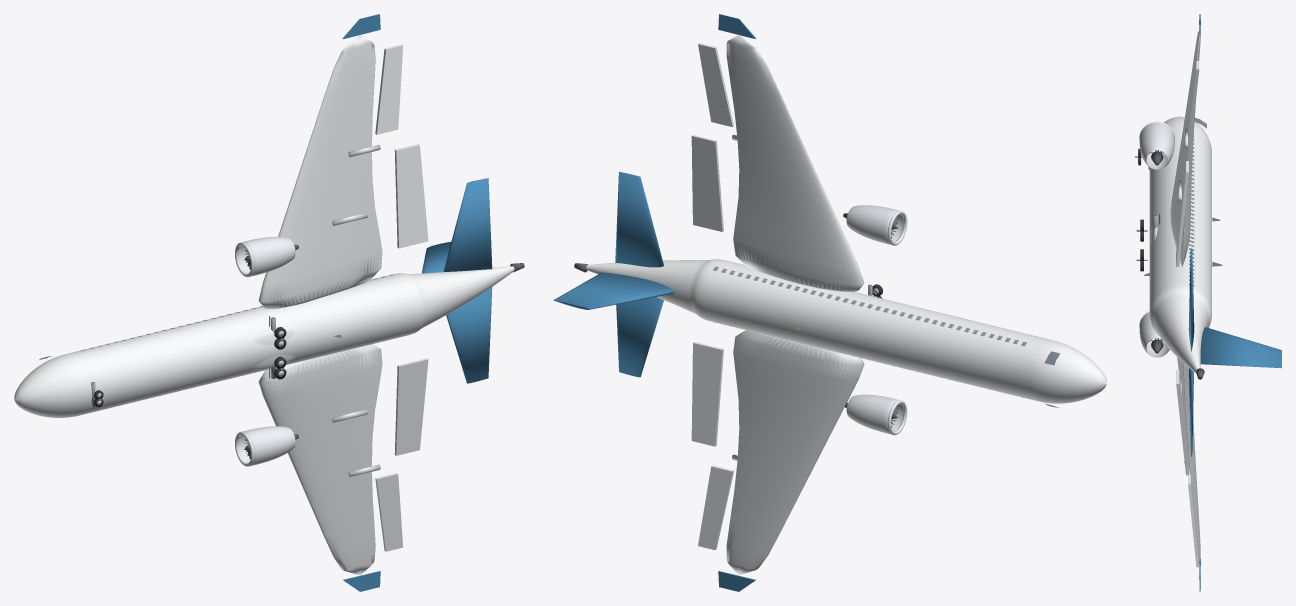
The picture shows the model from 3 angles, left to right: view 1: azimuth 30°, elevation 25°; view 2: azimuth 150°, elevation 25°; view 3: azimuth 270°, elevation 25°; orthographic projection.
Parts seen in each view (by area): view 1: Fuselage, Wing_R, Wing_L, HStab_R, HStab_L, Flap_R, Flap_L, Aileron_R, Aileron_L, Nacelle_-1_0, Nacelle_1_0, BellyFairing (+1 smaller); view 2: Fuselage, Wing_L, Wing_R, HStab_R, Flap_L, HStab_L, Fin, Flap_R, Aileron_L, Aileron_R, Nacelle_-1_0, Nacelle_1_0 (+1 smaller); view 3: Fuselage, Fin, Wing_R, Wing_L, Nacelle_1_0, Nacelle_-1_0, Flap_L, Flap_R, HStab_R, Aileron_L, Aileron_R, HStab_L (+1 smaller).
Part boxes in pixels (left/top/right/bottom): Fuselage: left=14, top=266, right=514, bottom=417; Wing_R: left=258, top=35, right=382, bottom=308; Wing_L: left=258, top=344, right=382, bottom=575; HStab_R: left=443, top=178, right=492, bottom=271; HStab_L: left=446, top=287, right=492, bottom=383; Flap_R: left=394, top=144, right=428, bottom=248; Flap_L: left=394, top=358, right=428, bottom=455; Aileron_R: left=375, top=44, right=403, bottom=134; Aileron_L: left=375, top=473, right=403, bottom=551; Nacelle_-1_0: left=238, top=426, right=295, bottom=465; Nacelle_1_0: left=238, top=237, right=295, bottom=276; BellyFairing: left=252, top=326, right=295, bottom=369; Fuselage: left=586, top=259, right=1106, bottom=403; Wing_L: left=726, top=330, right=864, bottom=575; Wing_R: left=726, top=35, right=864, bottom=291; HStab_R: left=615, top=172, right=663, bottom=267; Flap_L: left=691, top=342, right=723, bottom=446; HStab_L: left=616, top=297, right=663, bottom=377; Fin: left=553, top=272, right=674, bottom=309; Flap_R: left=691, top=135, right=723, bottom=231; Aileron_L: left=698, top=465, right=733, bottom=549; Aileron_R: left=698, top=43, right=733, bottom=126; Nacelle_-1_0: left=846, top=394, right=903, bottom=434; Nacelle_1_0: left=846, top=205, right=903, bottom=244; Fuselage: left=1149, top=116, right=1211, bottom=372; Fin: left=1200, top=327, right=1281, bottom=368; Wing_R: left=1170, top=31, right=1200, bottom=266; Wing_L: left=1177, top=357, right=1200, bottom=565; Nacelle_1_0: left=1139, top=123, right=1174, bottom=169; Nacelle_-1_0: left=1139, top=313, right=1169, bottom=357; Flap_L: left=1176, top=370, right=1188, bottom=475; Flap_R: left=1176, top=161, right=1188, bottom=266; HStab_R: left=1188, top=248, right=1194, bottom=351; Aileron_L: left=1188, top=474, right=1199, bottom=567; Aileron_R: left=1188, top=61, right=1199, bottom=142; HStab_L: left=1189, top=368, right=1193, bottom=457.
Bounding box in the file's own units: 35.28 × 37.14 × 8.7.
